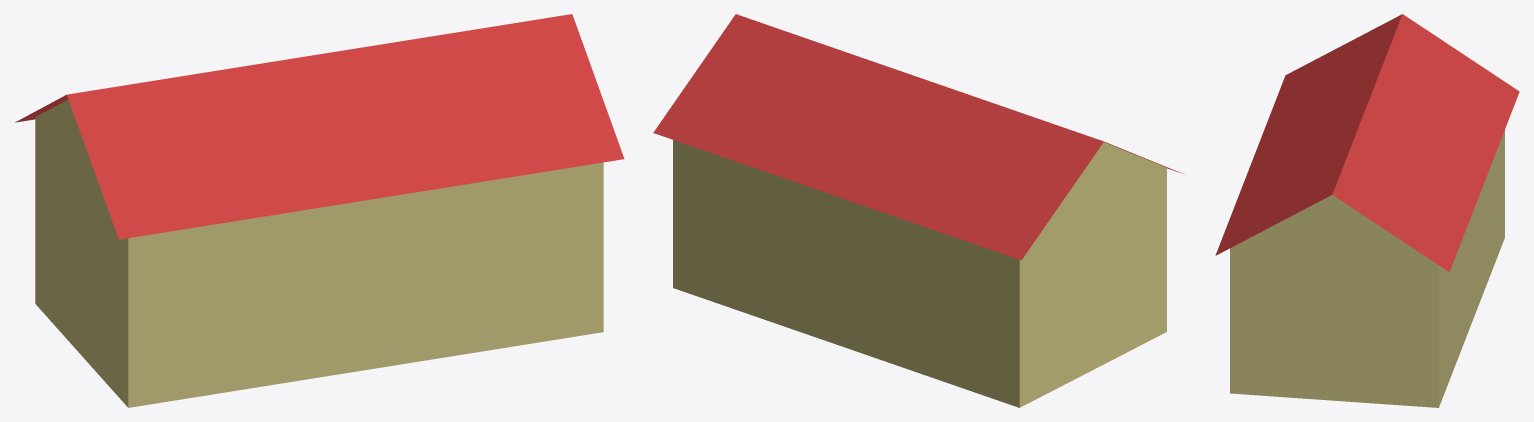
3 views of the same model, side by side, from view 1: azimuth 30°, elevation 25°; view 2: azimuth 150°, elevation 25°; view 3: azimuth 270°, elevation 25° (orthographic). The views are drawn at different scales.
Size of the model in its own units: 27.06 by 17.68 by 13.54.
